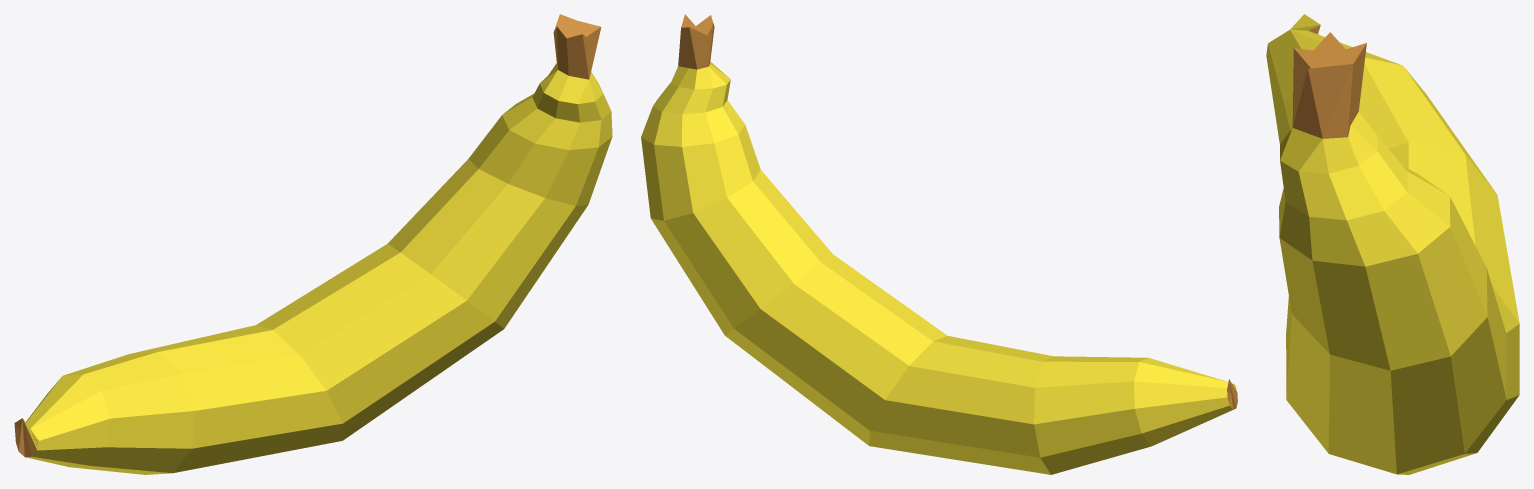
Rendered from Banana.fbx.
3 views of the same model, side by side, from view 1: azimuth 30°, elevation 25°; view 2: azimuth 150°, elevation 25°; view 3: azimuth 270°, elevation 25° (orthographic). The views are drawn at different scales.
Parts seen in each view (by area): view 1: group_231160751; view 2: group_231160751; view 3: group_231160751.
Part boxes in pixels (box(x1,y1,x2,y2)): group_231160751: box(14, 14, 612, 474); group_231160751: box(641, 14, 1237, 474); group_231160751: box(1266, 14, 1519, 474).
Bounding box in the file's own units: 43.52 × 25.93 × 9.85.
